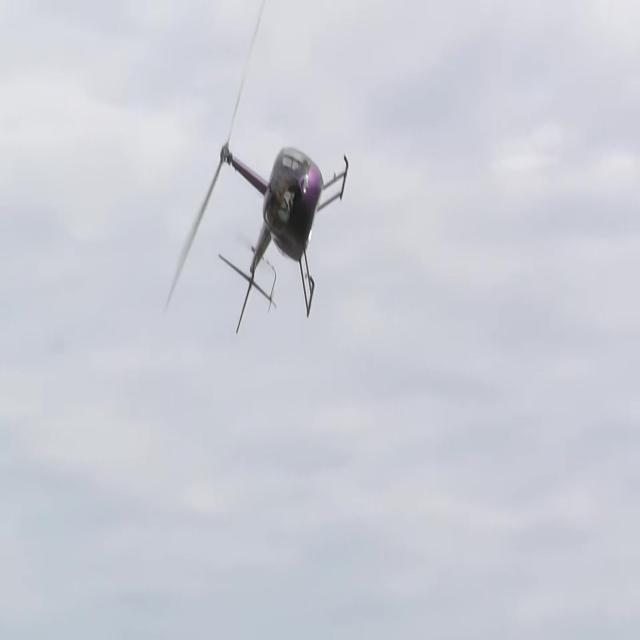CIV_HELO: (217, 140, 350, 338)
